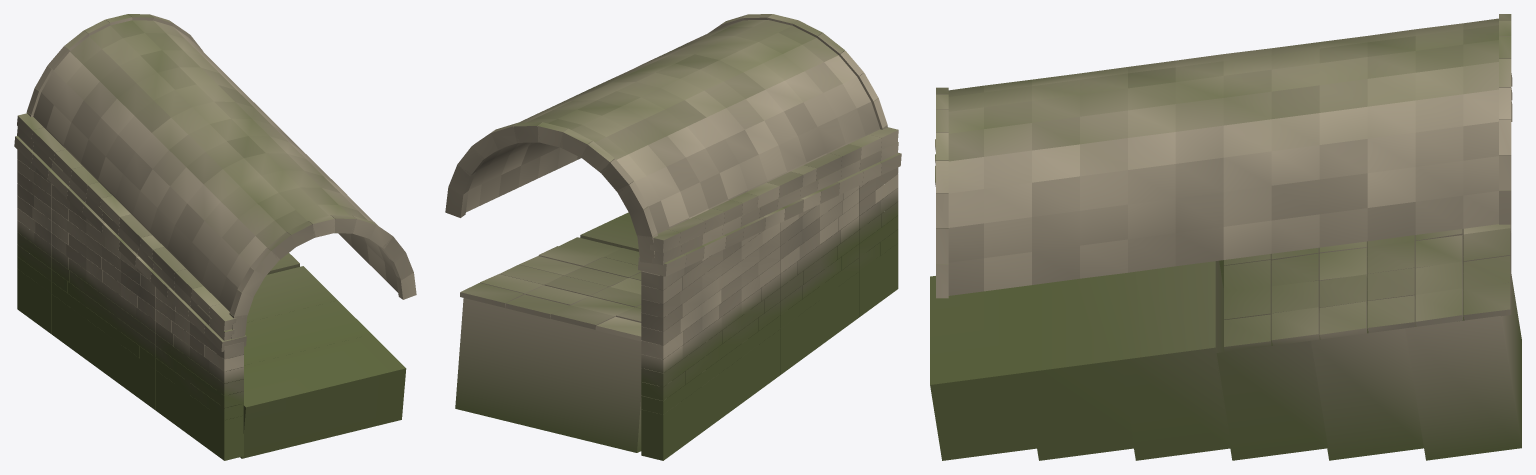
Rendered from harbour_shed_mid.glb.
3 renders of one model, left to right at view 1: azimuth 30°, elevation 25°; view 2: azimuth 150°, elevation 25°; view 3: azimuth 270°, elevation 25°, orthographic. The views are drawn at different scales.
Parts seen in each view (by area): view 1: harbour_shed_mid; view 2: harbour_shed_mid; view 3: harbour_shed_mid.
Boxes of the visible parts, x1,y1,x2,y2 form: harbour_shed_mid: (14,14,416,460); harbour_shed_mid: (445,14,901,460); harbour_shed_mid: (930,14,1521,460).
Size of the model in its own units: 30.1 by 40.26 by 57.1.
